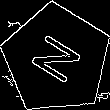N_SE: (25, 29, 88, 90)
